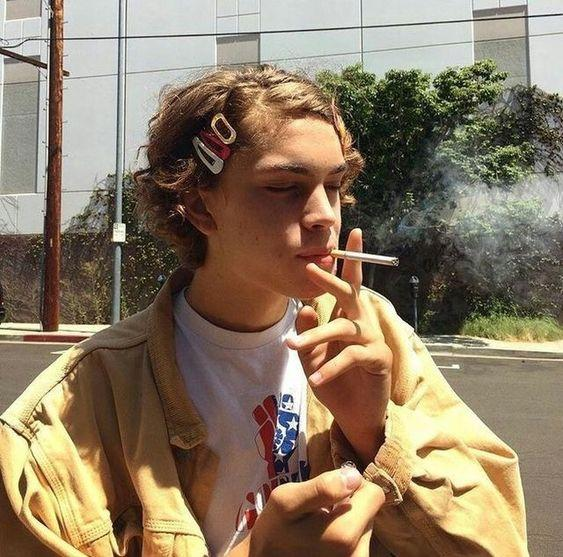cigarette: (330, 250, 401, 266)
